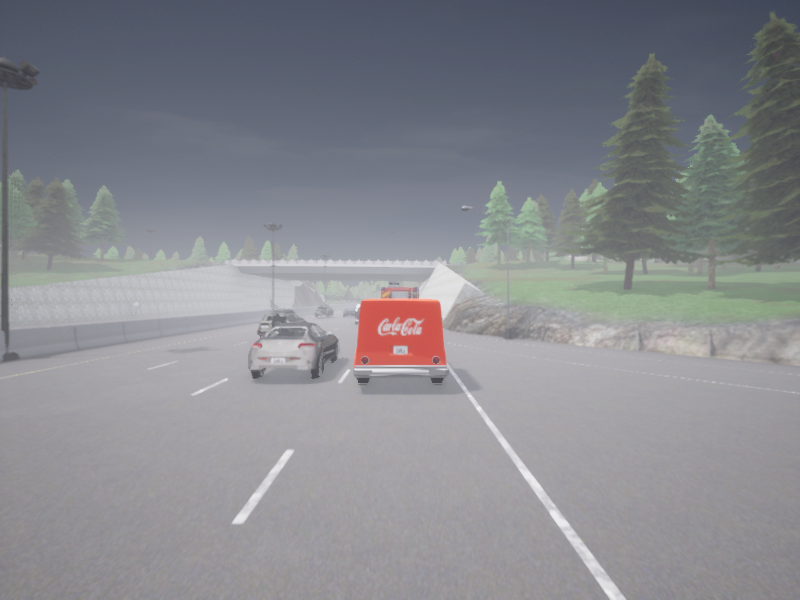vehicle: (353, 298, 448, 383), (248, 323, 338, 377), (257, 309, 307, 338), (381, 281, 418, 297), (315, 304, 333, 317), (343, 308, 355, 316), (355, 304, 359, 323)
